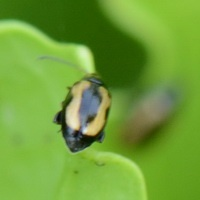insect: (54, 73, 110, 151)
